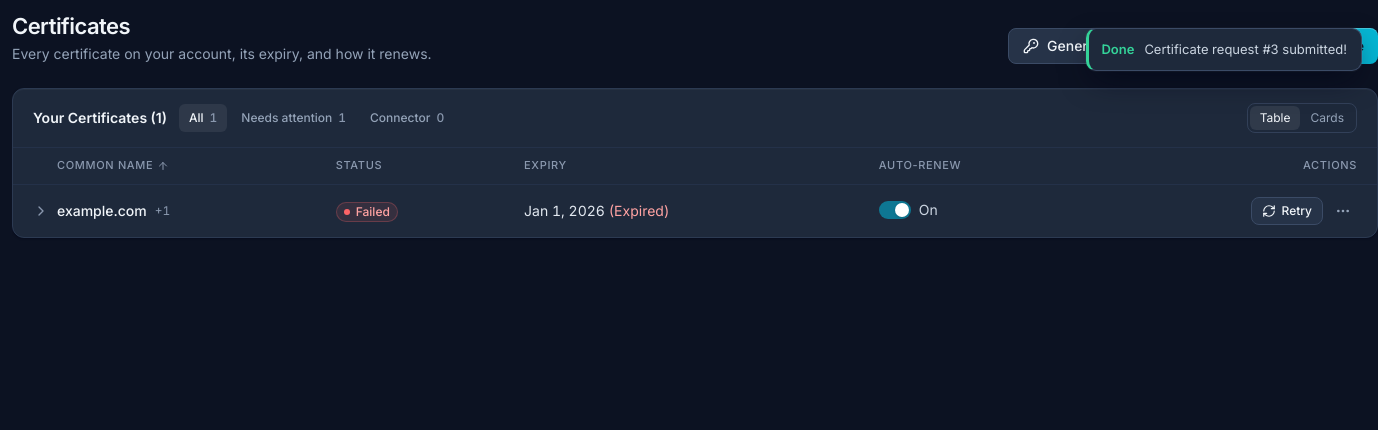
Test case: CertificateManagement › shows the failure reason for failed certificates
The width and height of the screenshot is (1378, 430).
Step 1. Click the button named "Show details" → (41, 211), box [33, 203, 49, 219]
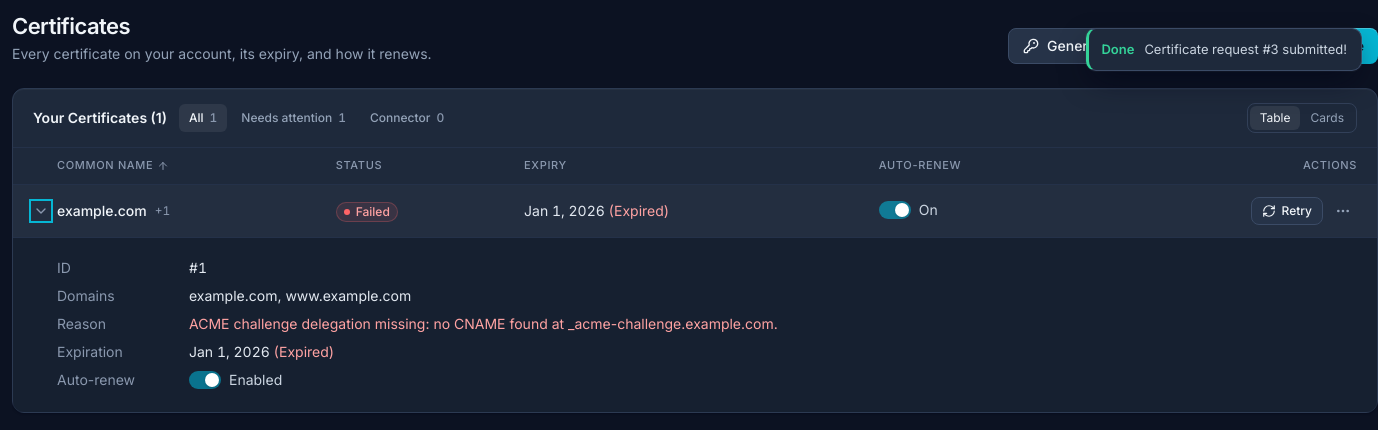
Result: the text "ACME challenge delegation missing: no CNAME found at _acme-challenge.example.com." is shown at [189, 315, 778, 332]
